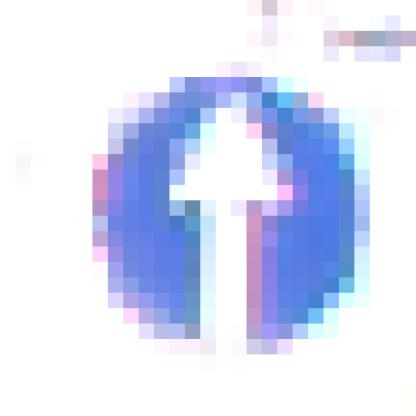AheadOnly: (78, 78, 340, 340)
